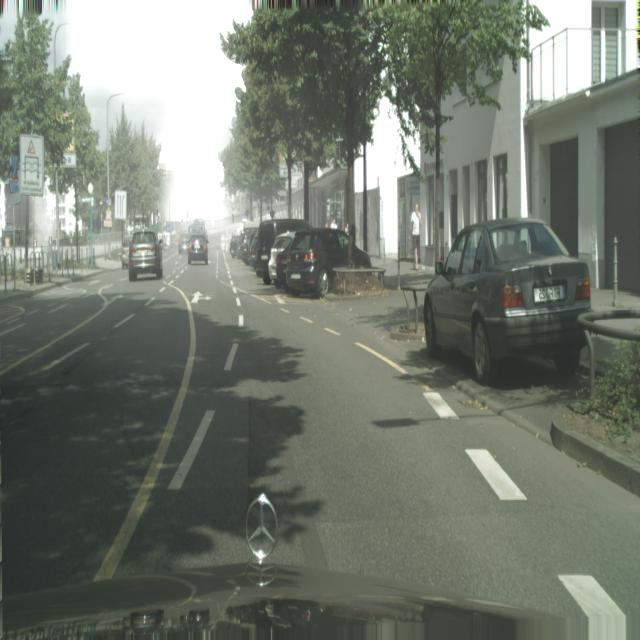bus: (410, 201, 422, 269)
person: (422, 217, 592, 384), (284, 227, 372, 299), (128, 229, 162, 281), (268, 231, 299, 288), (255, 220, 276, 284), (187, 234, 209, 265), (242, 229, 259, 266), (120, 232, 133, 269), (178, 232, 189, 254)
